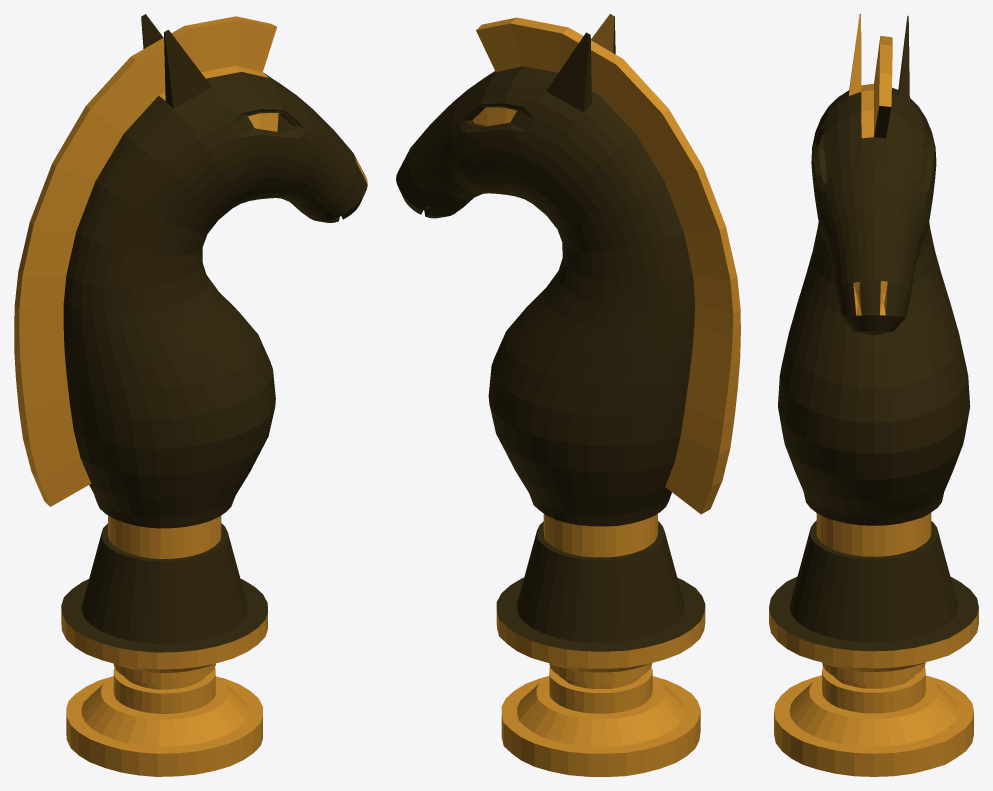
The model's file is metal_n_b.glb.
3 views of the same model, side by side, from view 1: azimuth 30°, elevation 25°; view 2: azimuth 150°, elevation 25°; view 3: azimuth 270°, elevation 25° (orthographic).
Visible parts, largest first — view 1: n1, n0; view 2: n1, n0; view 3: n1, n0.
Part boxes in pixels (box(x1,y1,x2,y2)): n1: box(61, 14, 367, 652); n0: box(14, 16, 367, 776); n1: box(396, 14, 705, 651); n0: box(397, 14, 740, 776); n1: box(769, 14, 978, 651); n0: box(769, 15, 978, 776).
Size of the model in its own units: 0.4522 by 0.9 by 0.2381.
